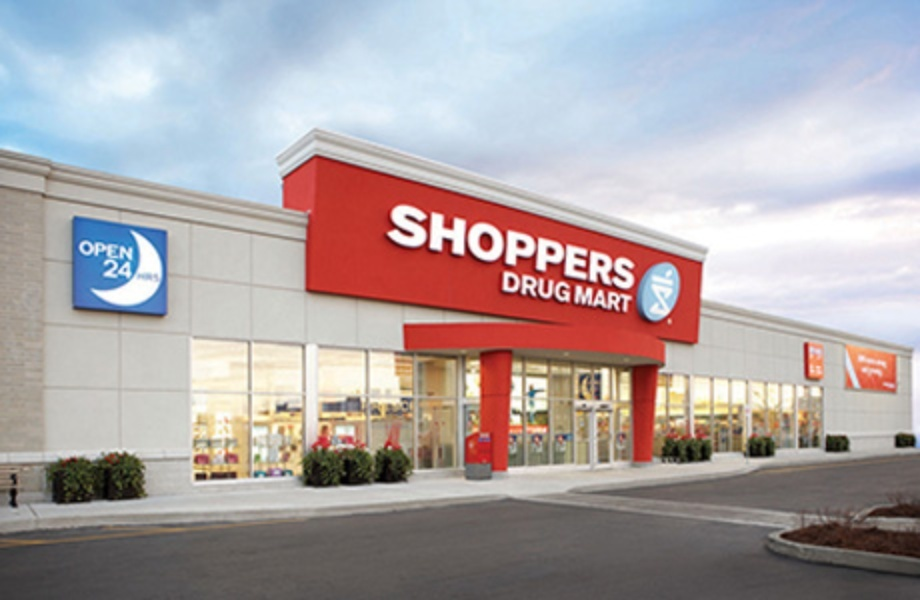text: (401, 199, 416, 295), (417, 199, 432, 295), (433, 199, 448, 295), (449, 199, 464, 295), (465, 199, 480, 295), (481, 199, 496, 295), (497, 199, 512, 295), (513, 199, 528, 295), (529, 199, 544, 295), (545, 199, 560, 295), (561, 199, 576, 295), (577, 199, 592, 295), (593, 199, 608, 295), (609, 199, 624, 295), (625, 199, 637, 295), (389, 199, 400, 295), (513, 267, 528, 316), (529, 267, 544, 316), (545, 267, 560, 316), (561, 267, 576, 316), (577, 267, 592, 316), (593, 267, 608, 316), (609, 267, 624, 316), (499, 267, 512, 316), (625, 267, 635, 316), (81, 237, 96, 263), (97, 237, 112, 263), (113, 237, 128, 263), (113, 259, 128, 283), (865, 353, 880, 371), (103, 259, 112, 283), (865, 365, 880, 379), (129, 237, 137, 263), (129, 259, 137, 283), (881, 353, 889, 371), (857, 353, 864, 371), (77, 237, 80, 263), (861, 365, 864, 379), (881, 365, 883, 379)
